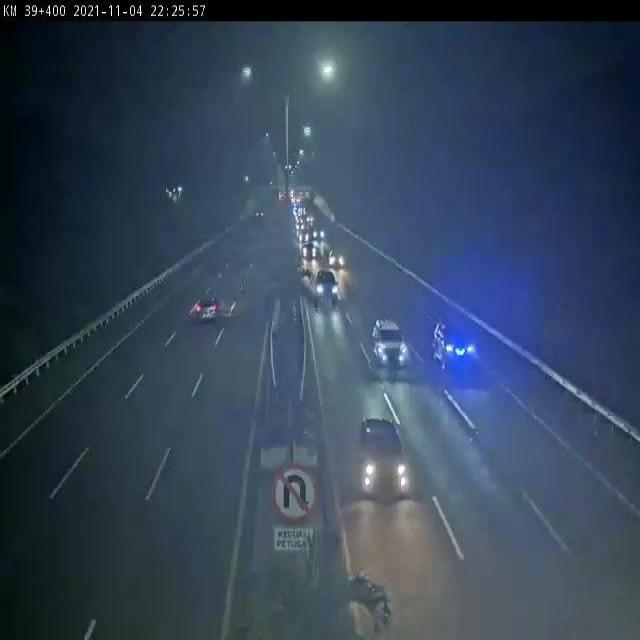car: (358, 417, 409, 499), (434, 325, 476, 372), (371, 316, 407, 367), (314, 271, 340, 305), (199, 291, 219, 321), (329, 248, 344, 269), (312, 225, 326, 240), (304, 244, 316, 257), (299, 232, 310, 241)
